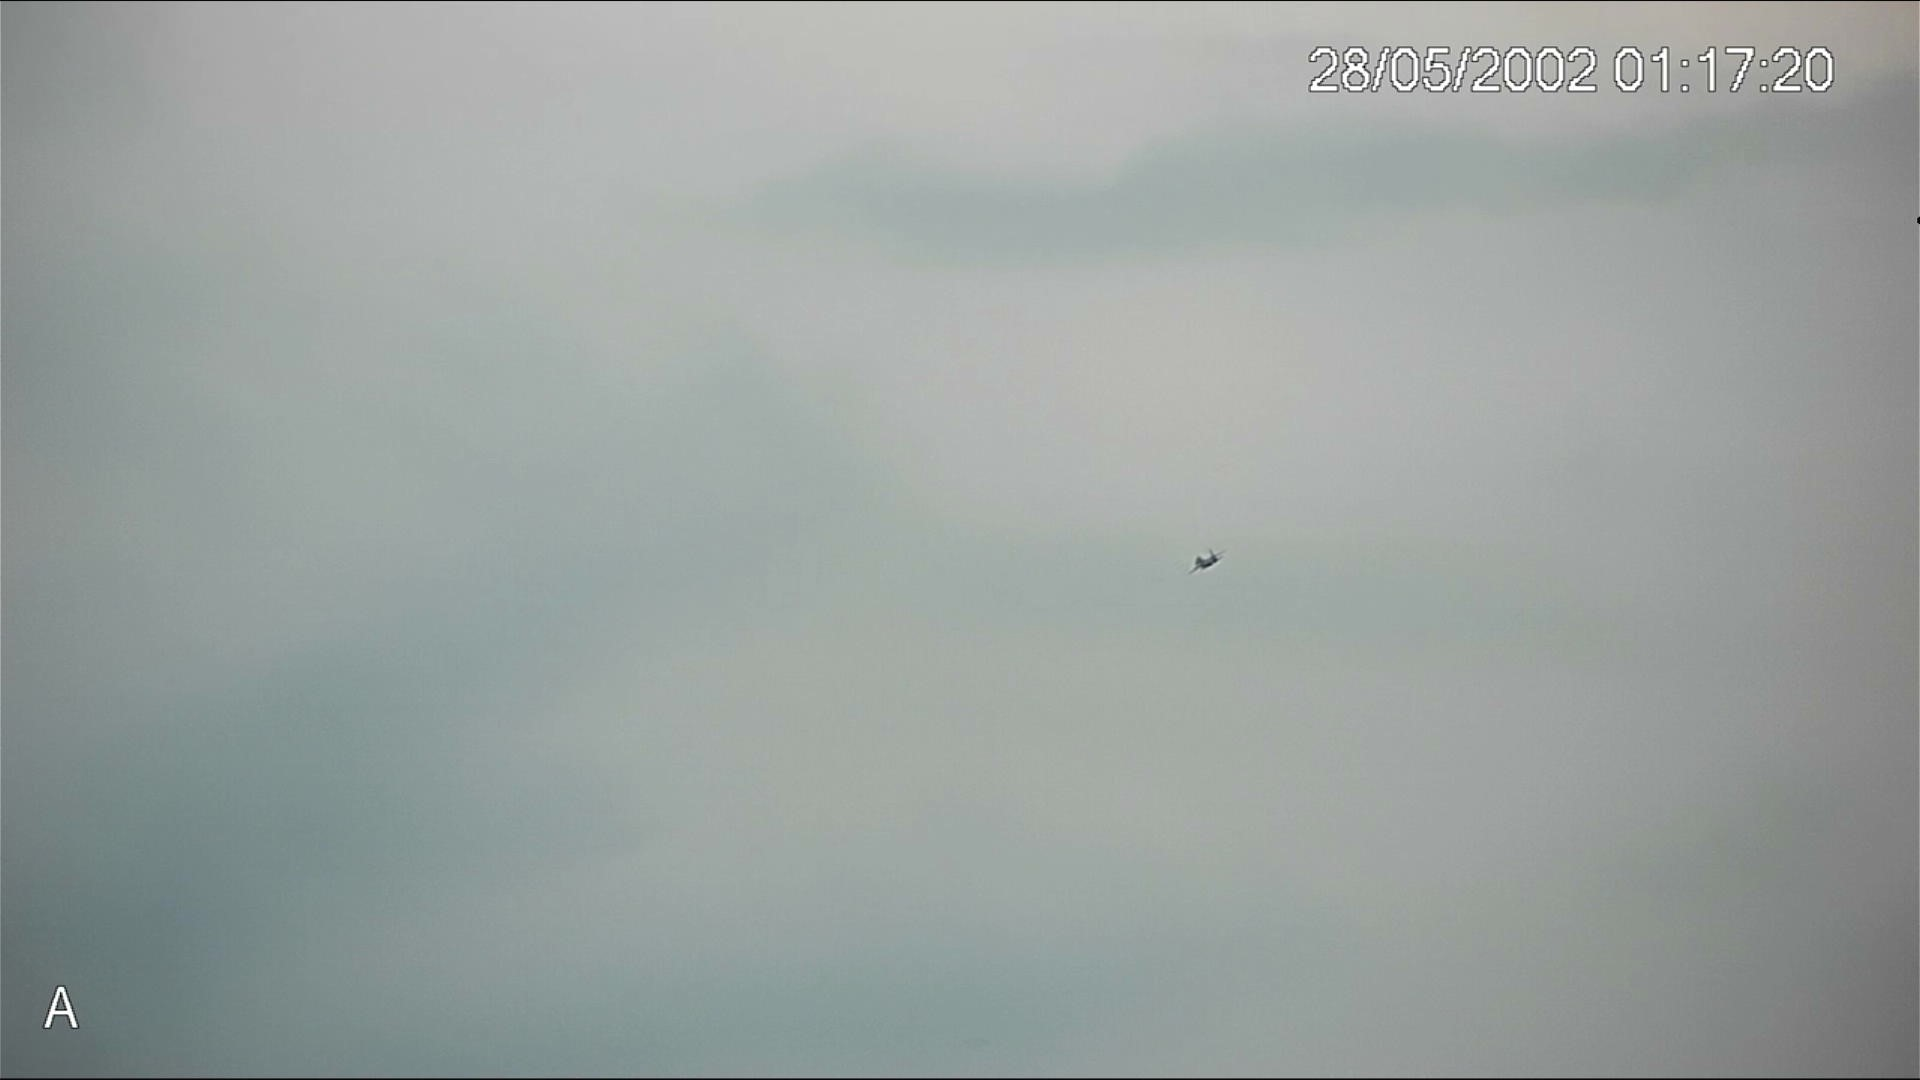SU_30: (1185, 550, 1222, 571)
